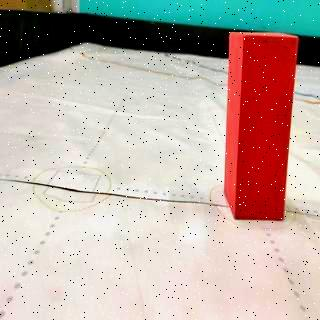redbox: (222, 31, 300, 222)
